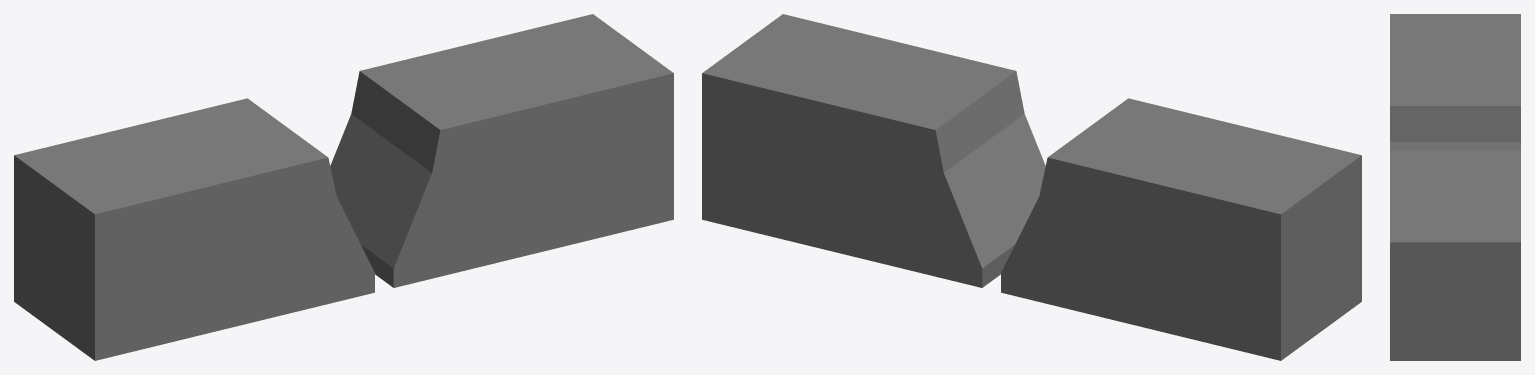
File: С24_Кромки.glb
The picture shows the model from 3 angles, left to right: view 1: azimuth 30°, elevation 25°; view 2: azimuth 150°, elevation 25°; view 3: azimuth 270°, elevation 25°; orthographic projection. The views are drawn at different scales.
Parts seen in each view (by area): view 1: node_id3; view 2: node_id3; view 3: node_id3.
Part boxes in pixels (<box>): node_id3: <box>14,14,673,360</box>; node_id3: <box>702,14,1361,360</box>; node_id3: <box>1390,14,1520,360</box>.
Bounding box in the file's own units: 0.512 × 0.1239 × 0.1239.
1 material, 1 textured.
